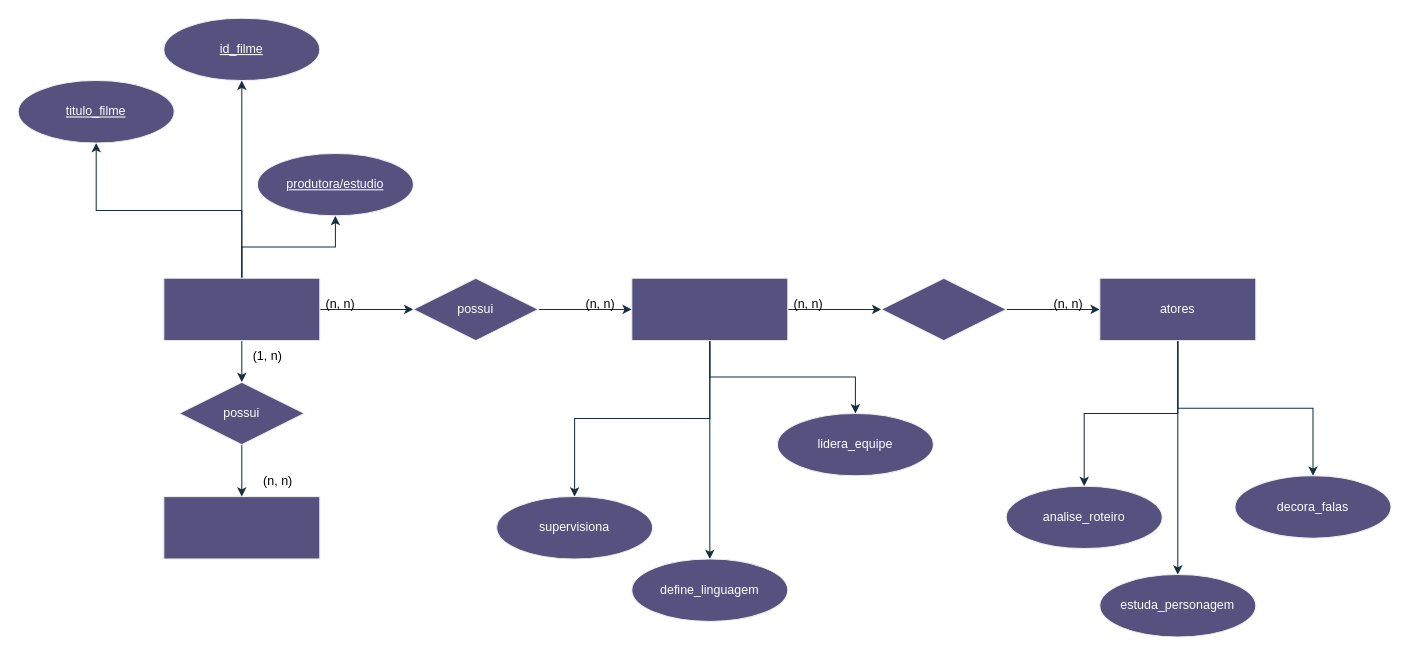
Some shapes in this 1409 by 655 pixel diagram are drawn without their labels. The shapes that lost their labels are listed below. From the top down, each one's box as (x1, y1, x2, y2) in pixels, then its label:
(163, 277, 320, 341): Filme
(631, 277, 788, 341): diretor
(880, 277, 1006, 341): contrata
(163, 496, 320, 559): idioma
